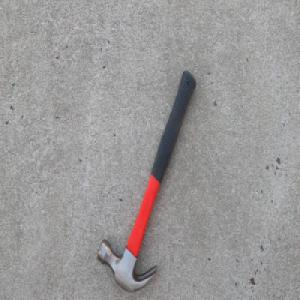Hammer: (96, 69, 196, 292)
